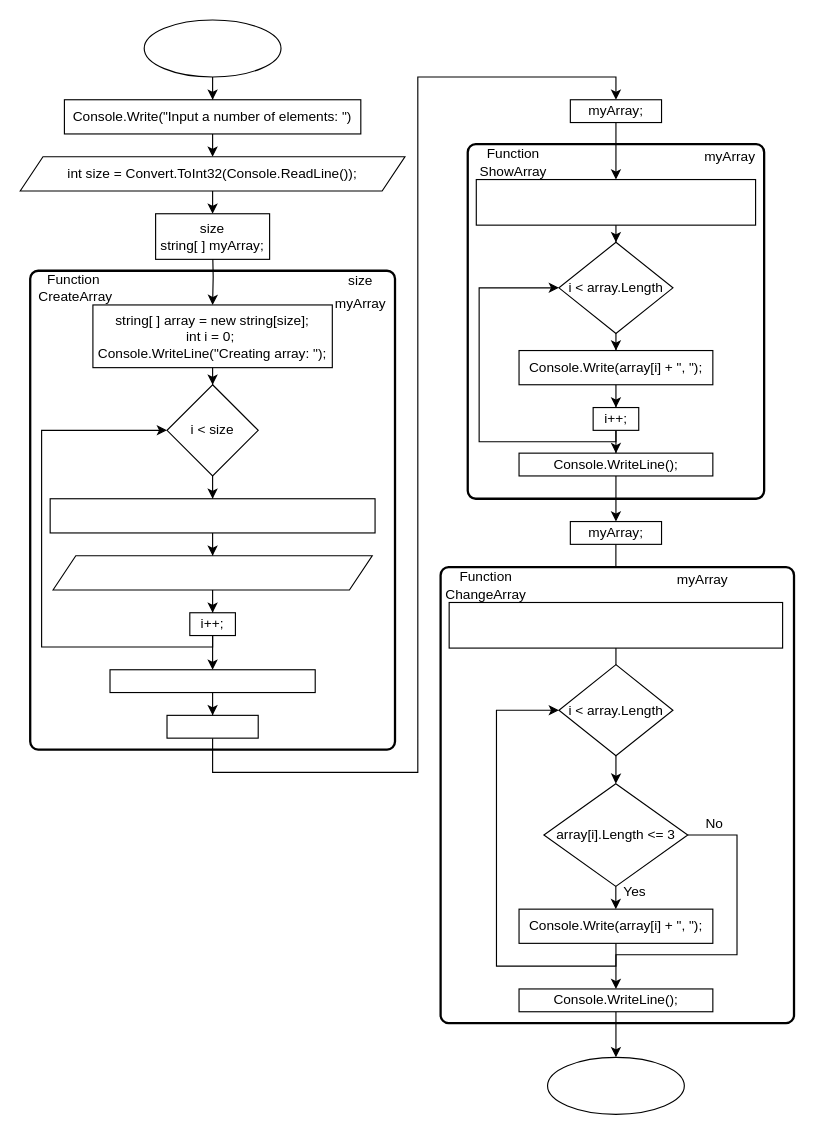
Some shapes in this 815 by 1134 pixel diagram are drawn without their labels. Here are the shapes that lost their labels. From the top down, the centre of each, then its label:
[212,48]: Start
[615,201]: Console.WriteLine("The array you created: "); int i = 0;
[212,515]: Console.WriteLine($"Input {i + 1} element of array: ");
[212,572]: array[i] = convert.ToString(Console.ReadLine());
[615,624]: Console.WriteLine("Your array has been changed: "); int i = 0;
[212,681]: Console.WriteLine("Complete!");
[212,726]: return array;
[615,1085]: End
